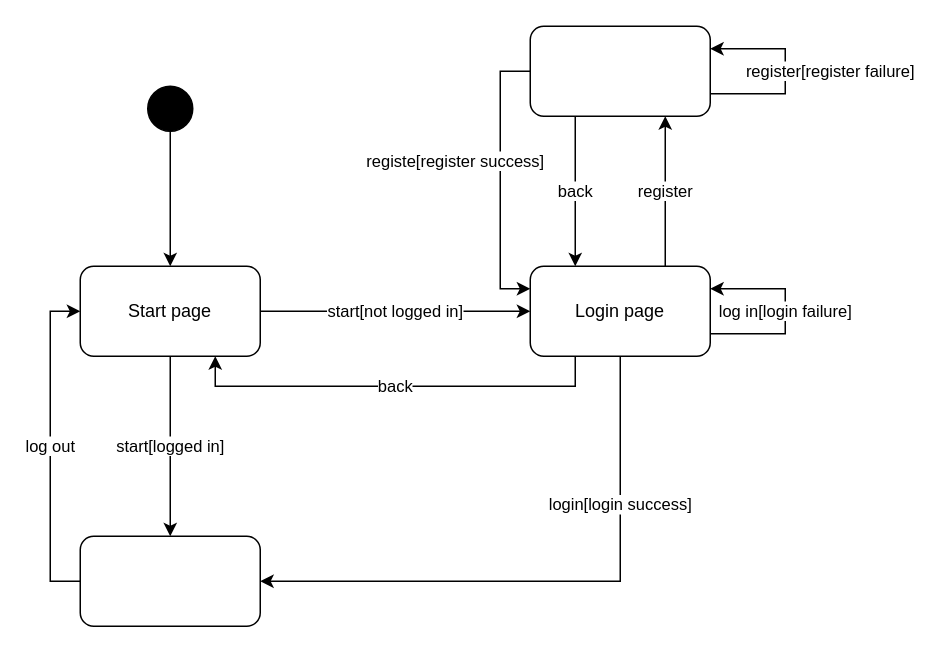
The diagram is 941 pixels wide and 653 high, and some of its shapes have lost their labels. The centre of each missing label's shape, as x and y in pixels:
Landing Page: the point at 169,580
Register Page: the point at 619,70
